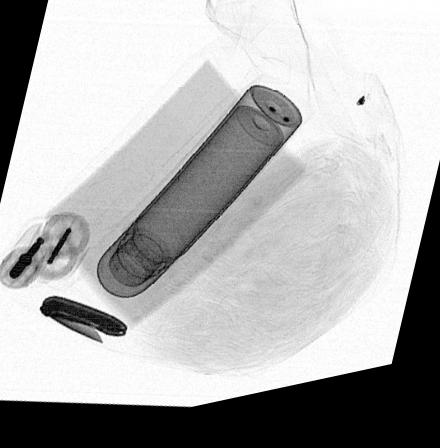Knife: (38, 293, 128, 348)
